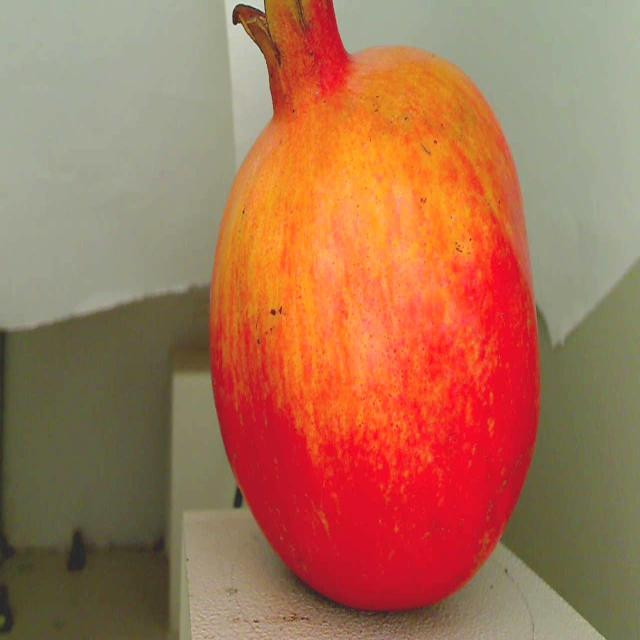pomegranate: (202, 0, 556, 631)
